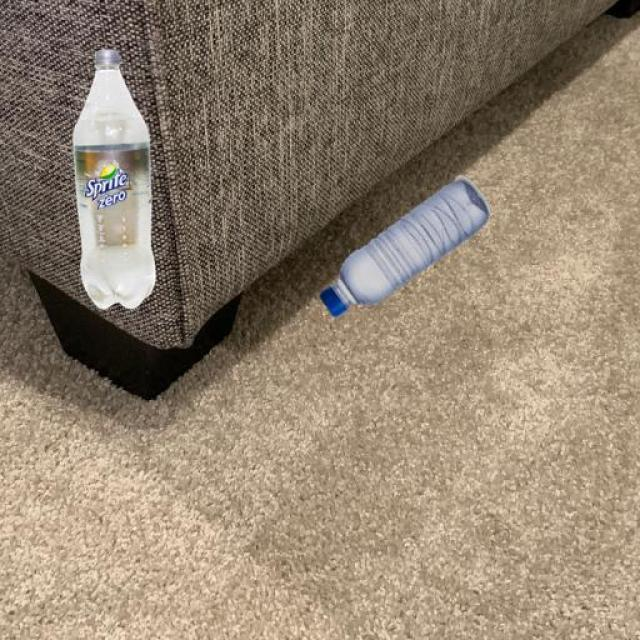bottle: (318, 172, 490, 318), (70, 46, 156, 310)
